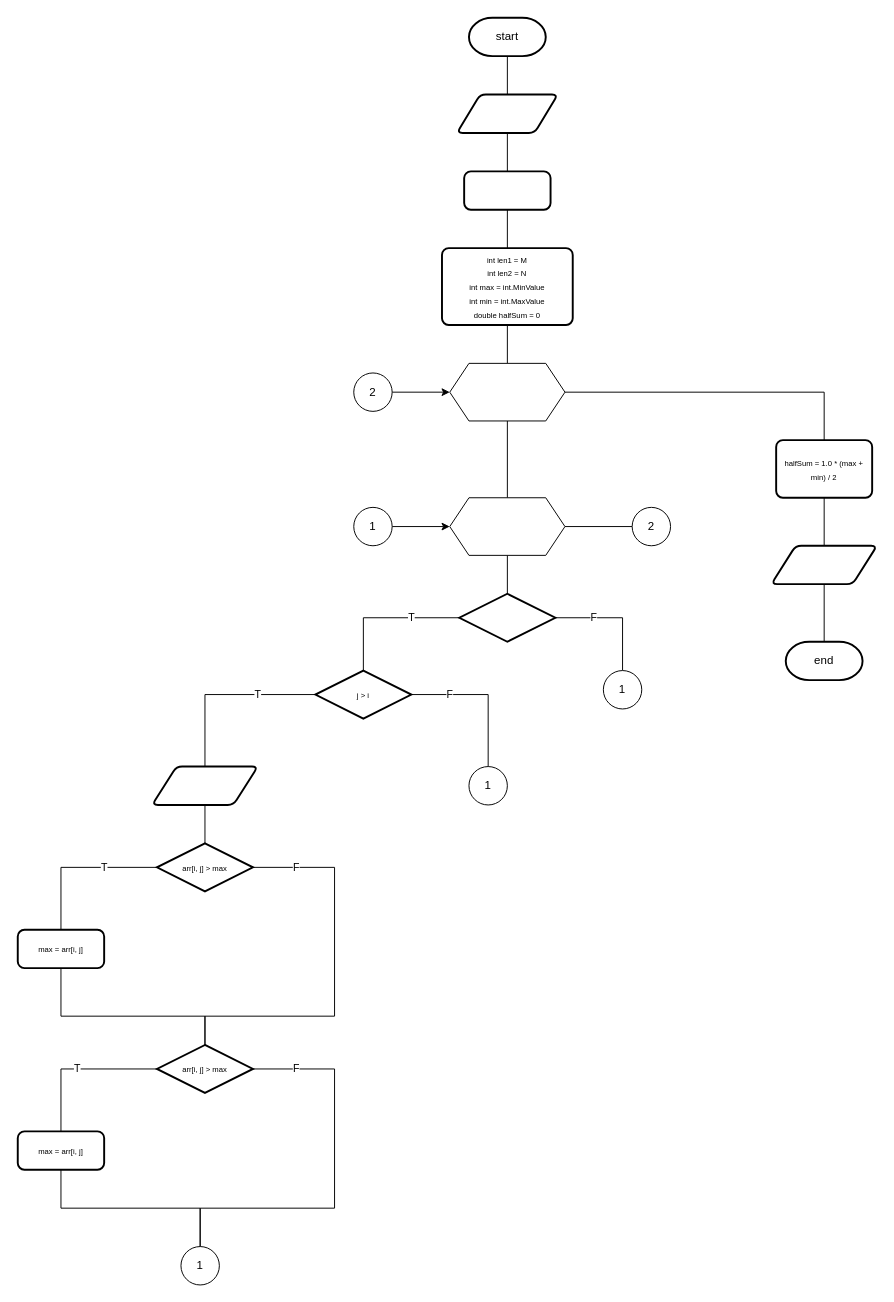
This 894x1302 diagram has some shape labels left out. The centre of each missing label's shape, as x and y in pixels:
"arr[i, j]" belongs at (204,785).
"halfSum" belongs at (823,564).
"i + j < len2 - 1" belongs at (507,617).
"int i = 0; i < len1; i++" belongs at (507,391).
"int j = 0; j < len2; j++" belongs at (507,526).
"int[,] arr = new int[M,N]" belongs at (507,190).
"M, N" belongs at (507,113).
